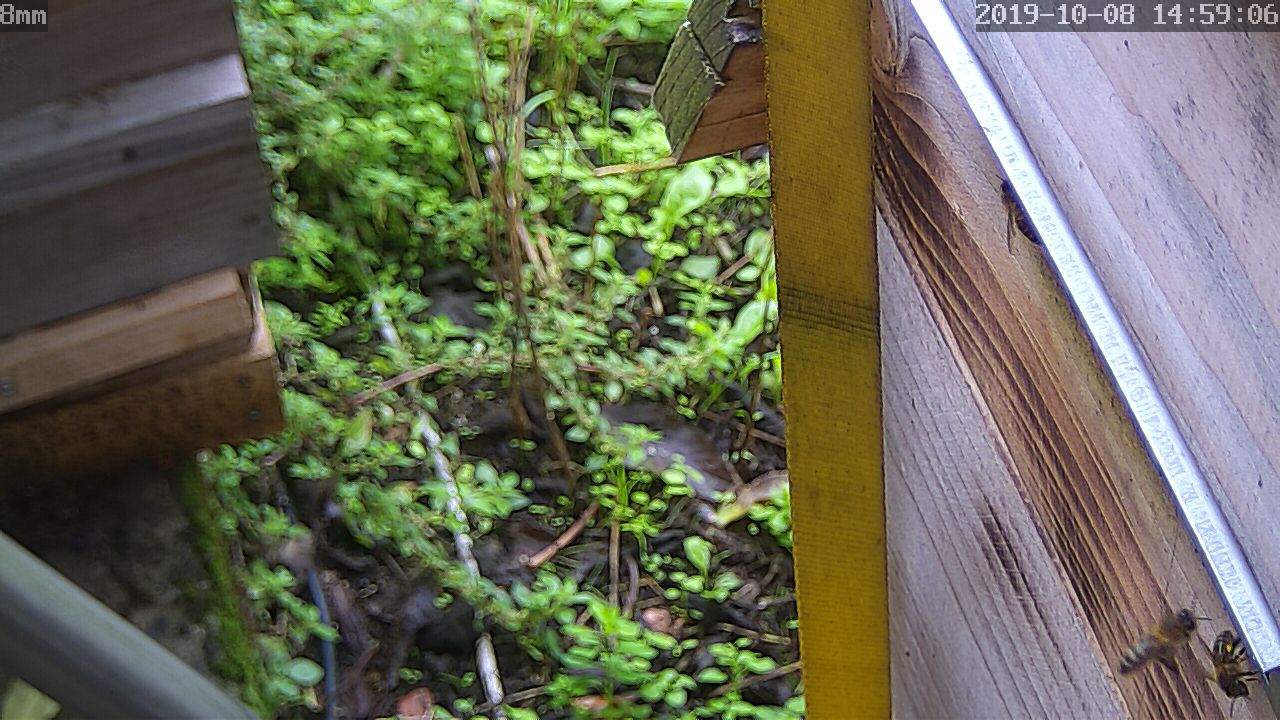bee: (1124, 594, 1212, 676), (1188, 627, 1266, 699), (986, 181, 1032, 245)
